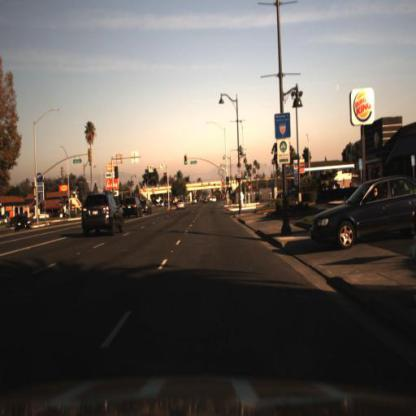car: (311, 176, 416, 253), (80, 191, 124, 237), (120, 197, 143, 223), (142, 195, 154, 219), (16, 215, 32, 231), (141, 197, 152, 216), (175, 196, 187, 211)
trafficLight-Green: (225, 173, 233, 191), (244, 170, 250, 186), (184, 151, 189, 168), (225, 178, 231, 190)
trafficLight-Red: (162, 166, 167, 184)
